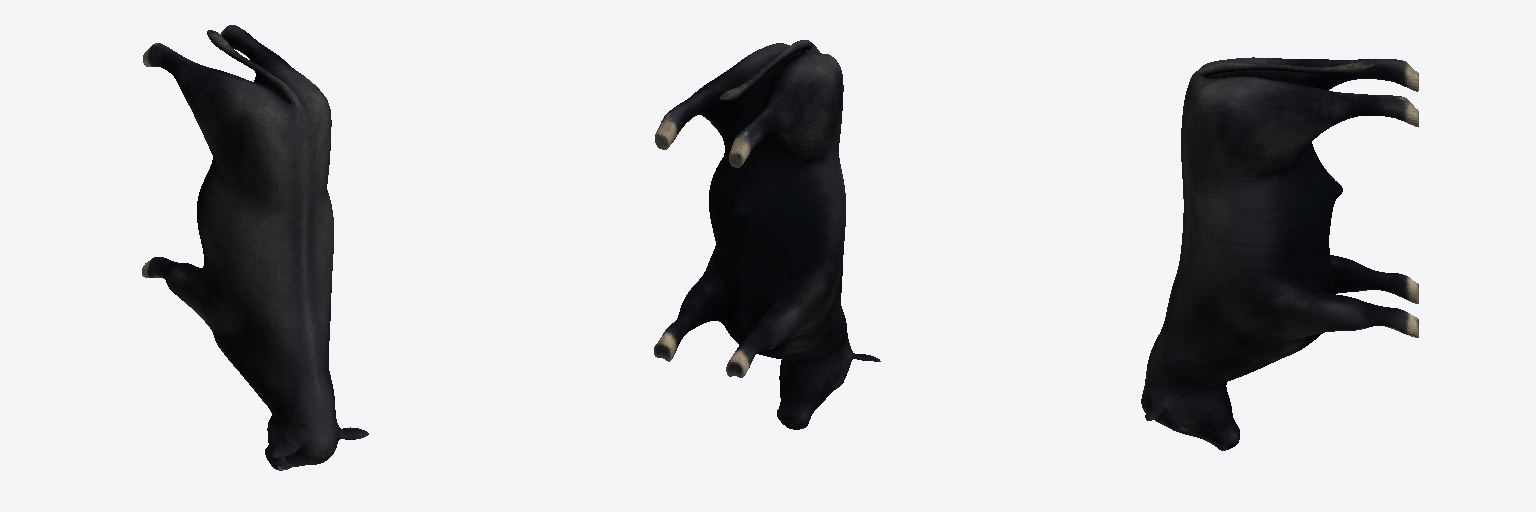
3 views of the same model, side by side, from view 1: azimuth 30°, elevation 25°; view 2: azimuth 150°, elevation 25°; view 3: azimuth 270°, elevation 25° (orthographic).
Visible parts, largest first — view 1: 13086_Black_Angus_v2; view 2: 13086_Black_Angus_v2; view 3: 13086_Black_Angus_v2.
Boxes of the visible parts, box(x1,y1,x2,y2) form: 13086_Black_Angus_v2: box(142, 25, 368, 470); 13086_Black_Angus_v2: box(654, 40, 880, 429); 13086_Black_Angus_v2: box(1141, 57, 1418, 450).
Size of the model in its own units: 28.63 by 91.89 by 59.82.
1 materials, 1 textured.